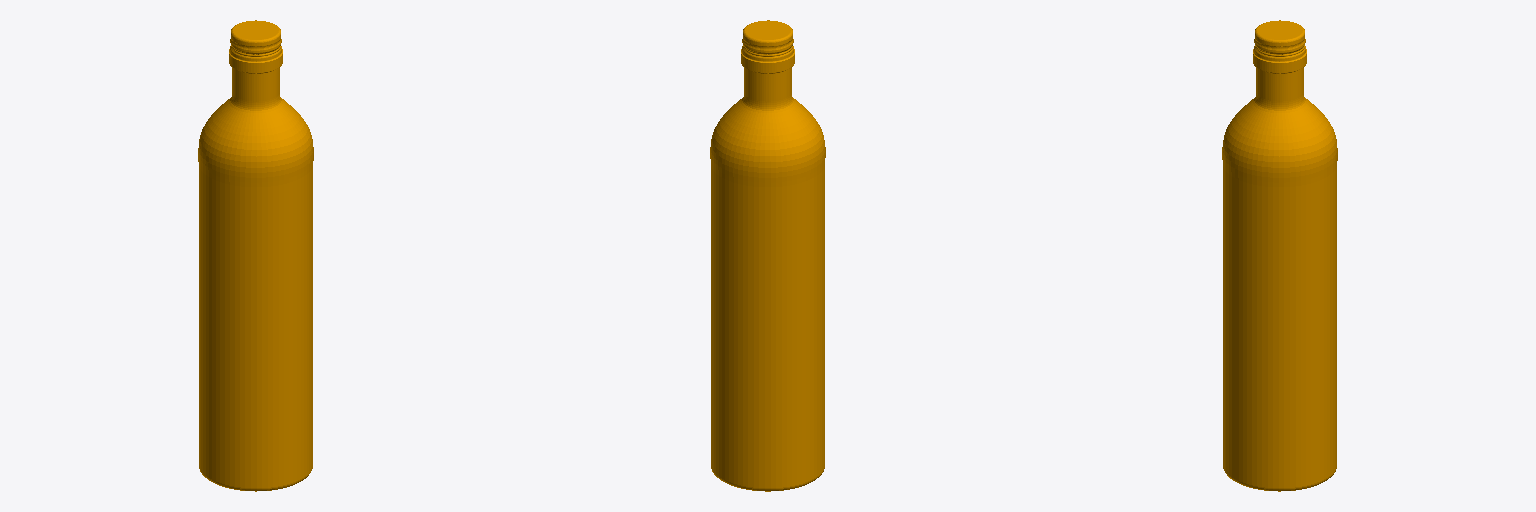
robot.urdf — oil:
<robot name="oil">
    <link name="oil">
        <visual>
            <geometry>
                <mesh filename="oil.stl" />
            </geometry>
        </visual>
        <collision>
            <geometry>
                <mesh filename="oil.stl"/>
            </geometry>
        </collision>
    </link>
</robot>

--- Render facts (derived) ---
The picture shows the robot from 3 angles, left to right: view 1: azimuth 30°, elevation 25°; view 2: azimuth 150°, elevation 25°; view 3: azimuth 270°, elevation 25°; orthographic projection.
Robot: oil — 1 links, 0 joints (none); root link oil; default pose: every joint at zero.
Visible links, largest first — view 1: oil; view 2: oil; view 3: oil.
Link boxes in pixels (bbox=[...]): oil: bbox=[198, 20, 313, 491]; oil: bbox=[710, 20, 825, 491]; oil: bbox=[1222, 20, 1337, 491].
Size in the robot's own frame: 0.0475 by 0.0475 by 0.1997 metres.
Meshes: 1 distinct files referenced, 1 mesh visuals loaded (1 binary STL).